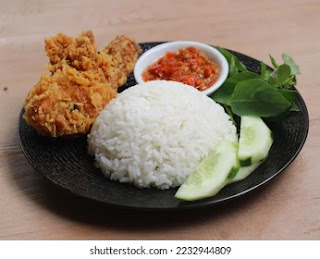buah_sayur_lainnya: (237, 76, 292, 112), (204, 151, 230, 184)
buah_sayur_vitA: (168, 52, 211, 81)
daging: (55, 47, 92, 114)
makanan_berpati: (126, 96, 196, 154)
